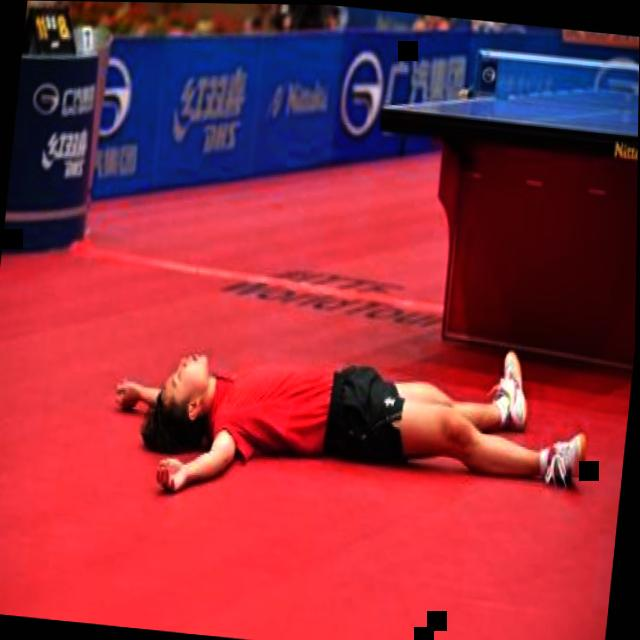Fall-Detected: (115, 314, 603, 513)
